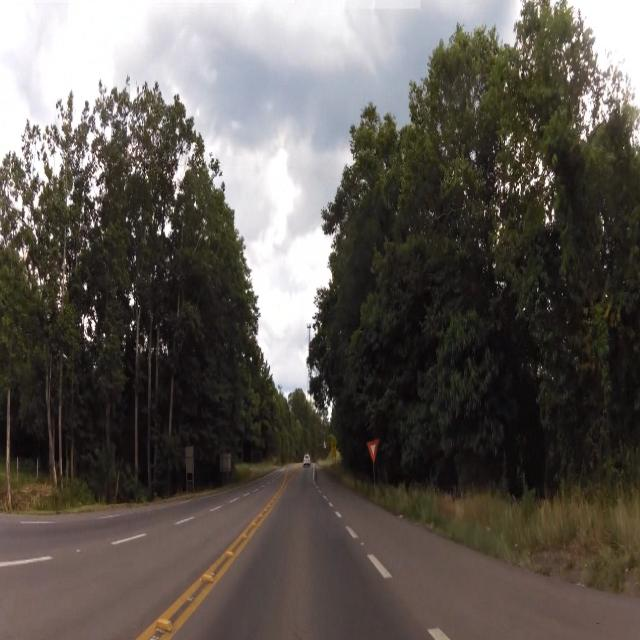R-2: (365, 439, 385, 465)
